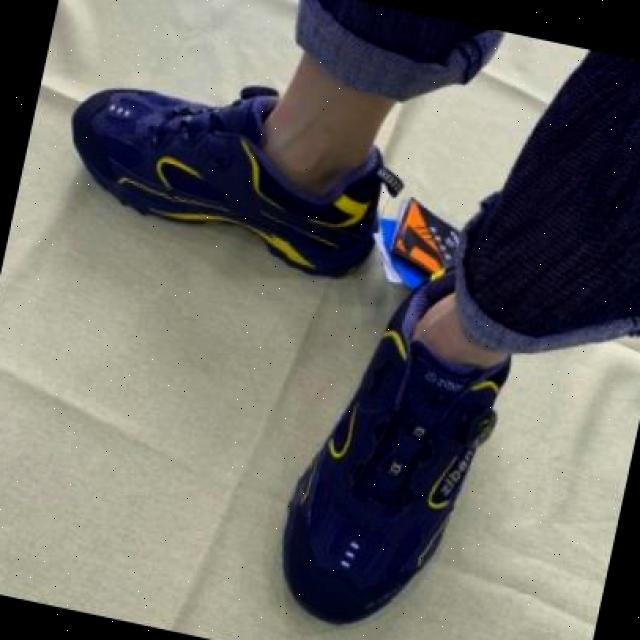Safety Boots: (283, 270, 509, 622), (75, 90, 383, 275)
